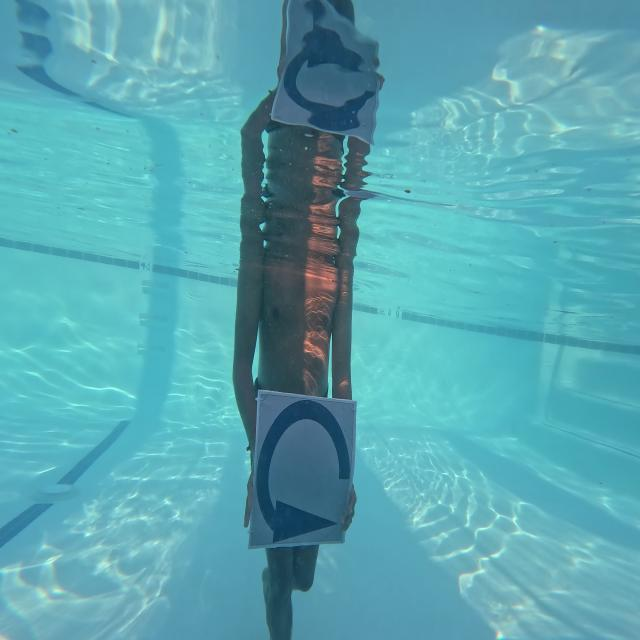blue_side: (253, 388, 355, 556)
